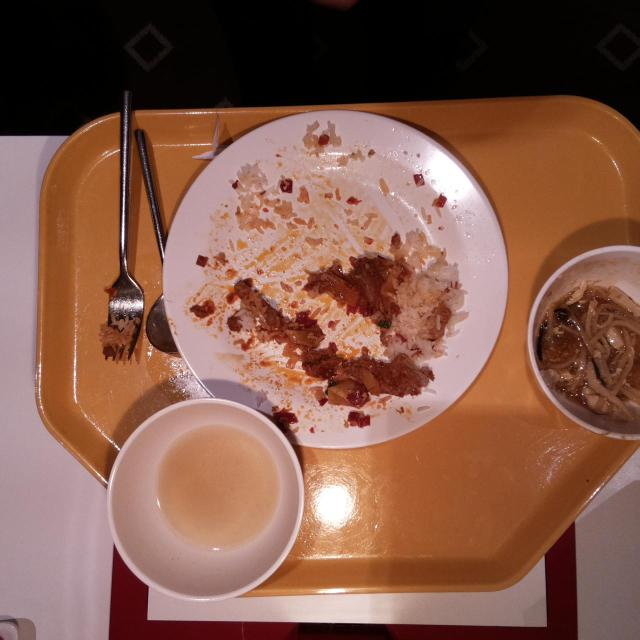Meat: (301, 344, 426, 396), (302, 259, 398, 323)
Rice: (394, 235, 466, 359)
